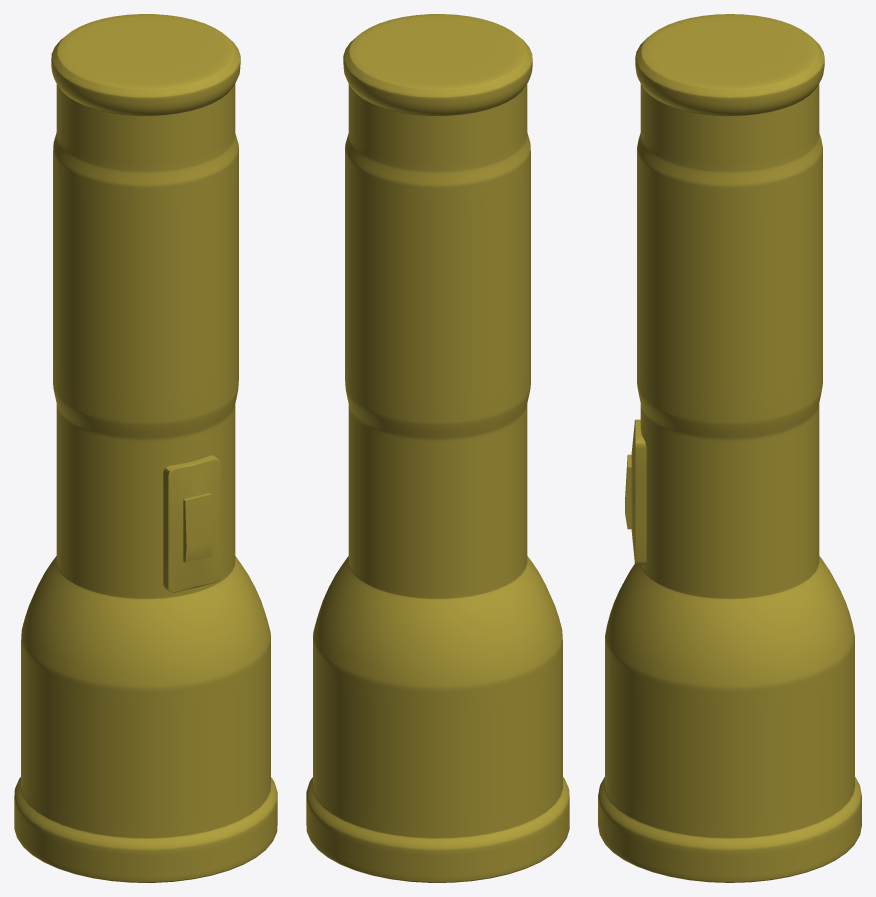
File: FlashlightFBX.fbx
The picture shows the model from 3 angles, left to right: view 1: azimuth 30°, elevation 25°; view 2: azimuth 150°, elevation 25°; view 3: azimuth 270°, elevation 25°; orthographic projection.
Visible parts, largest first — view 1: pCylinder19, pCube1; view 2: pCylinder19; view 3: pCylinder19, pCube1.
Boxes of the visible parts, bbox=[...] form: pCylinder19: bbox=[14, 14, 277, 882]; pCube1: bbox=[163, 455, 220, 592]; pCylinder19: bbox=[306, 14, 569, 882]; pCylinder19: bbox=[598, 14, 861, 882]; pCube1: bbox=[625, 419, 646, 564].
Size of the model in its own units: 2.08 by 6.98 by 2.08.
